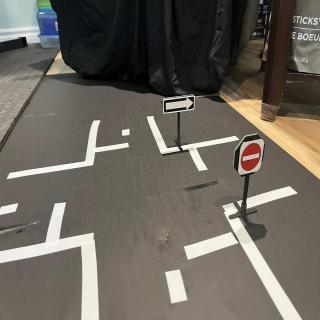sign_noentry: (238, 137, 266, 179)
sign_oneway_right: (163, 92, 197, 116)
